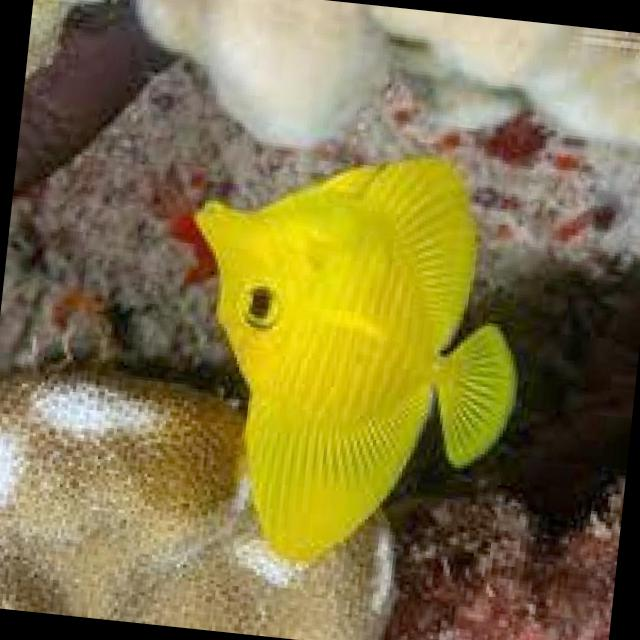YellowTang: (115, 95, 568, 604)
